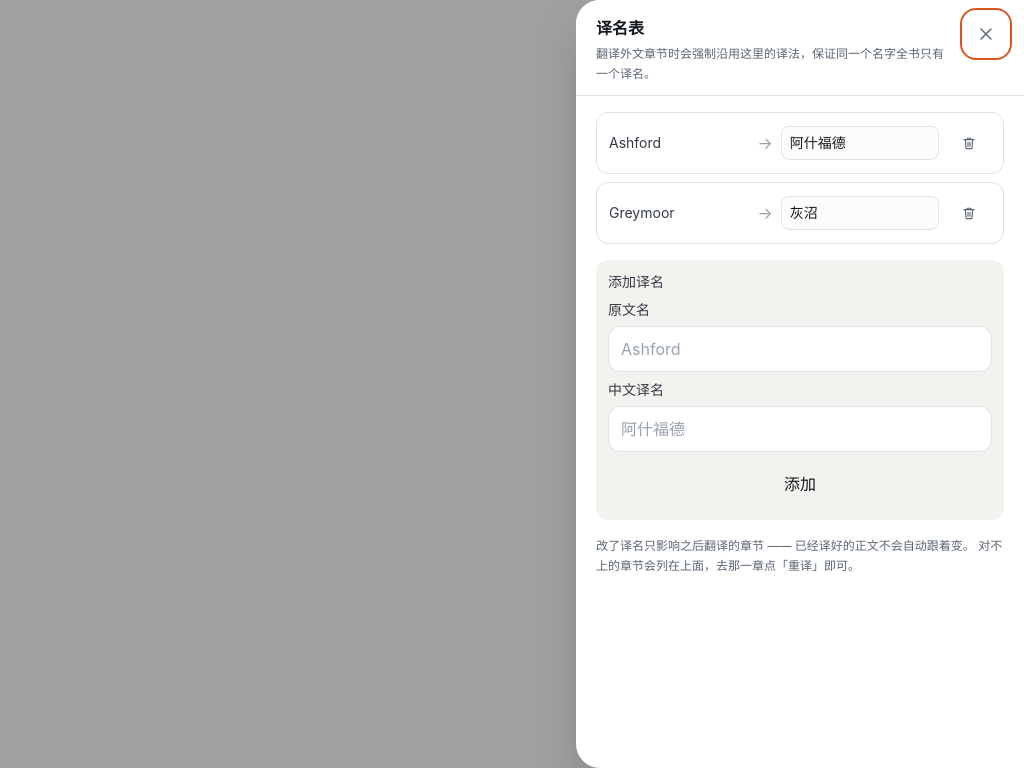
Test: 改译名 › 改动前没有保存按钮，改回原值后按钮消失
Expected: the button "保存" is not shown
Type "甲" into the field named "Ashford 的译名".
click(860, 143); type("甲")  # box [781, 126, 939, 160]
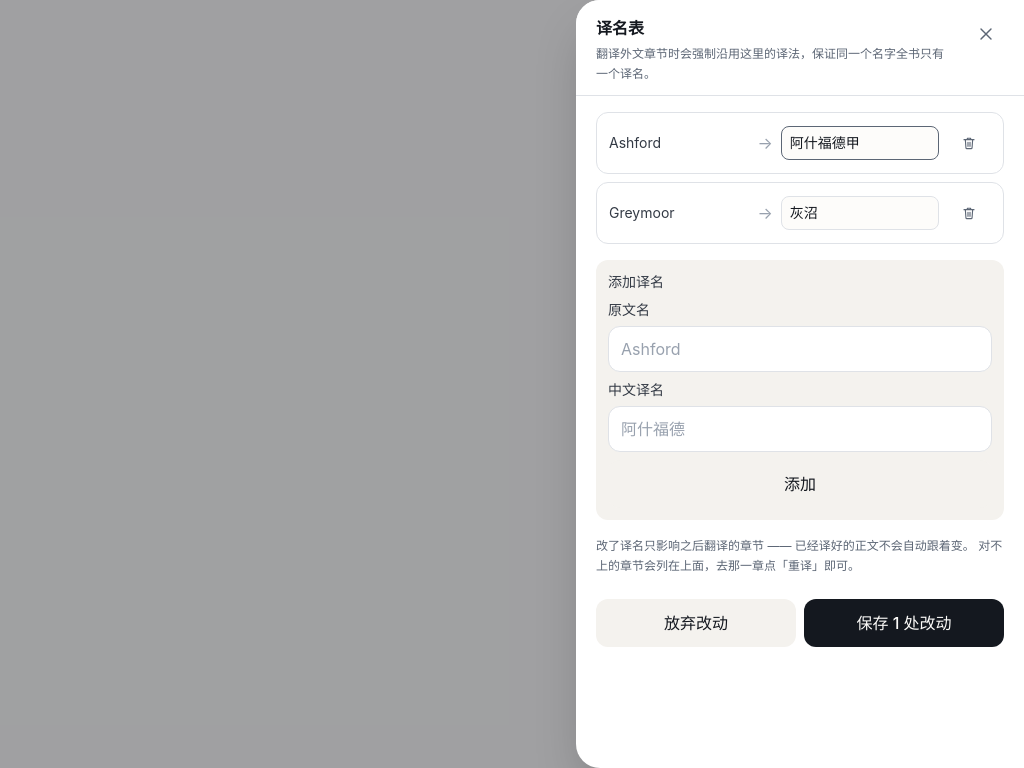
Now the button "保存 1 处改动" is shown, box [804, 599, 1004, 647]
Replace the text in the field named "Ashford 的译名" with "阿什福德" at (860, 143), box [781, 126, 939, 160]
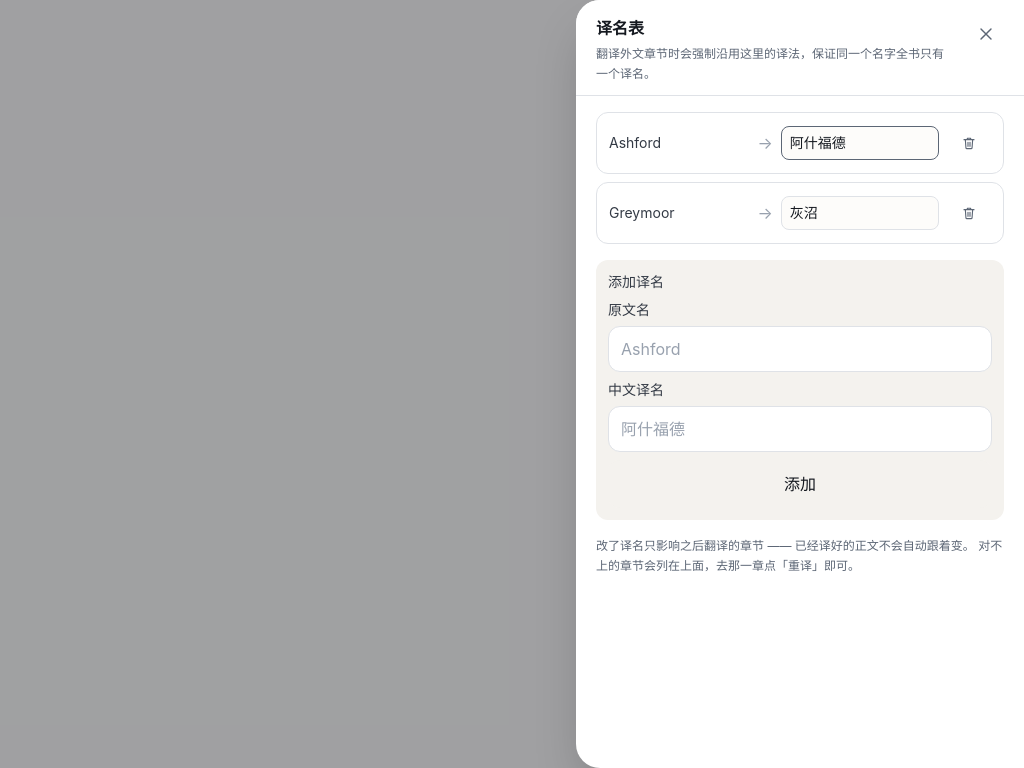
Now the button "保存" is gone
